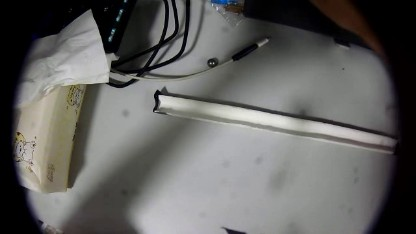gangzhu: (205, 56, 216, 68)
